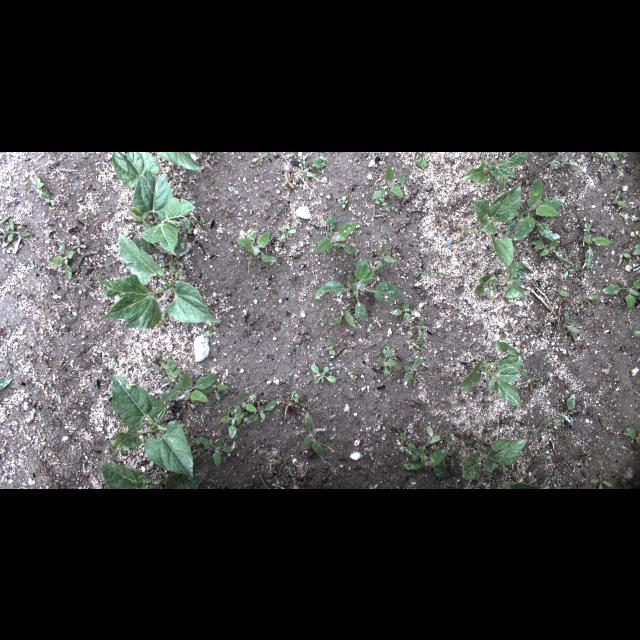crop: (94, 235, 220, 338), (110, 374, 204, 474), (112, 152, 196, 258), (458, 339, 544, 408), (469, 177, 528, 275), (514, 176, 564, 240), (462, 434, 528, 482), (99, 460, 205, 488), (461, 151, 534, 187), (472, 261, 534, 299), (154, 152, 202, 170), (500, 478, 550, 488), (0, 378, 12, 392)
weed: (314, 256, 400, 320), (398, 426, 454, 480), (161, 370, 229, 410), (234, 228, 276, 274), (314, 213, 360, 255), (581, 220, 613, 270), (219, 394, 255, 438), (192, 436, 236, 468), (372, 163, 408, 199), (601, 277, 639, 311), (48, 242, 78, 278), (23, 174, 57, 204), (302, 414, 324, 458), (404, 316, 430, 352), (1, 214, 32, 242), (528, 238, 566, 260), (552, 393, 576, 427), (159, 351, 181, 385), (377, 344, 399, 376), (251, 400, 277, 426), (390, 298, 420, 320), (309, 362, 337, 384), (622, 426, 640, 456), (548, 152, 578, 170), (330, 304, 354, 326), (402, 356, 423, 380), (617, 244, 639, 266), (588, 470, 614, 488), (610, 185, 628, 211), (301, 158, 327, 176), (376, 242, 396, 264), (566, 312, 580, 341), (416, 270, 462, 278), (277, 222, 297, 240), (436, 432, 454, 448), (398, 430, 414, 448), (616, 476, 638, 488), (456, 430, 470, 448), (530, 420, 544, 438), (414, 151, 428, 169), (584, 294, 600, 308), (324, 336, 334, 356), (250, 151, 270, 161), (607, 152, 623, 164), (563, 262, 575, 278), (443, 221, 459, 233), (582, 448, 592, 467), (284, 170, 294, 188), (260, 476, 274, 488), (453, 232, 462, 248), (376, 196, 388, 208), (290, 391, 300, 404), (553, 176, 569, 184), (340, 196, 350, 208), (557, 288, 571, 296), (412, 374, 420, 388), (110, 357, 120, 368), (146, 357, 156, 368), (348, 372, 358, 382), (630, 327, 640, 337), (538, 320, 548, 330), (0, 214, 10, 224), (461, 224, 473, 232), (590, 152, 602, 160), (270, 480, 282, 488), (614, 163, 624, 171), (298, 156, 306, 166), (198, 215, 206, 223), (218, 203, 228, 209), (368, 452, 374, 461), (480, 482, 488, 488), (540, 260, 546, 268), (276, 206, 282, 214), (366, 323, 372, 331), (31, 260, 35, 268), (391, 206, 399, 210)
